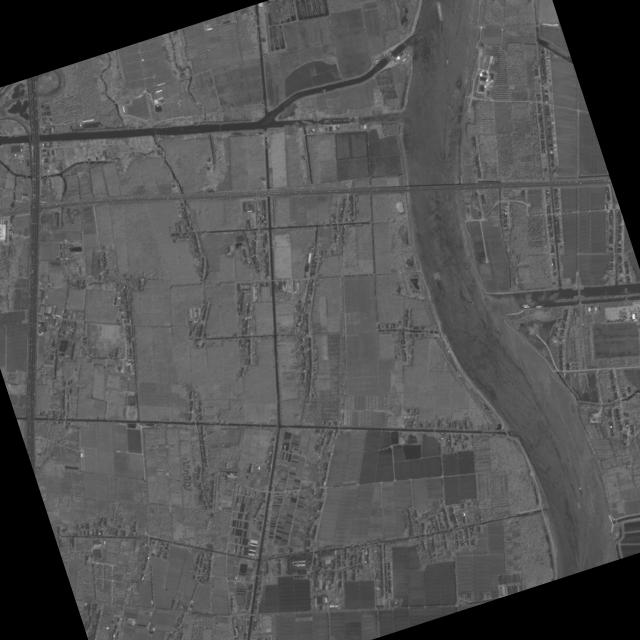ship: (436, 1, 443, 22), (480, 318, 488, 329), (533, 394, 541, 404), (577, 487, 583, 497), (432, 273, 437, 284), (442, 150, 446, 161), (454, 32, 458, 42), (576, 500, 580, 510), (450, 11, 454, 20), (567, 460, 571, 469), (561, 464, 565, 473), (464, 301, 473, 305), (436, 272, 440, 281), (569, 477, 573, 485), (434, 272, 438, 280), (519, 304, 529, 307), (522, 306, 531, 309), (534, 306, 543, 309), (445, 58, 448, 66), (301, 124, 308, 127), (323, 121, 330, 124), (323, 123, 332, 125), (283, 125, 291, 127), (343, 119, 351, 121), (332, 120, 340, 122), (447, 105, 449, 112), (291, 125, 298, 127), (323, 120, 329, 122)
